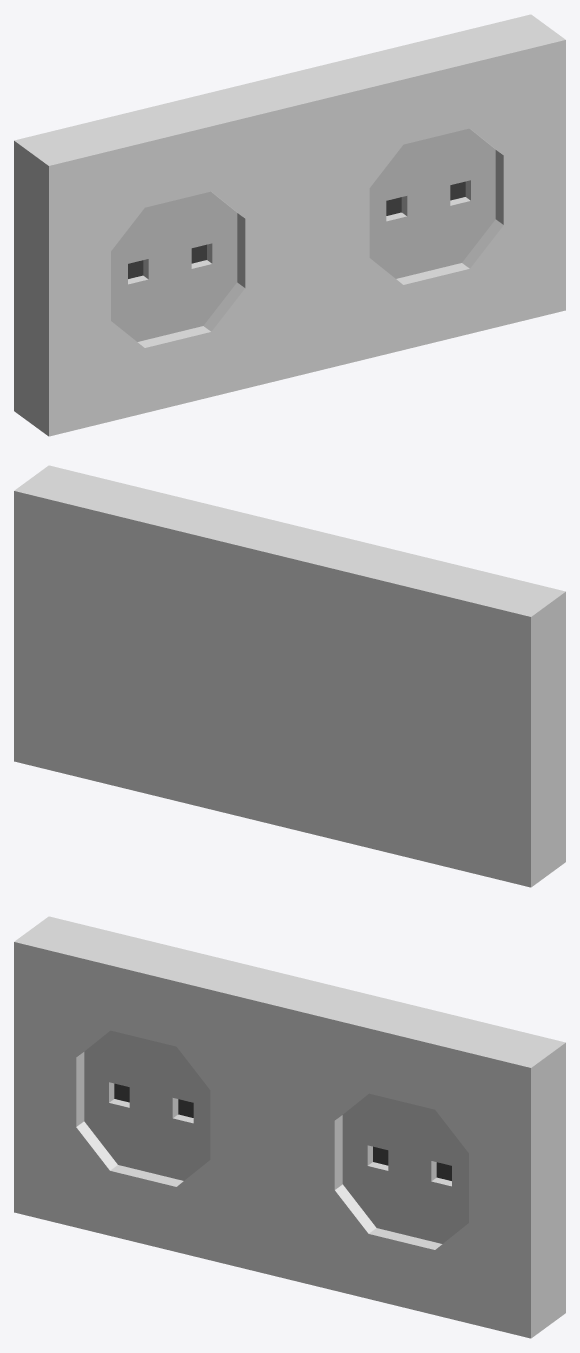
File: Socket2_C1.fbx
The picture shows the model from 3 angles, top to bottom: view 1: azimuth 30°, elevation 25°; view 2: azimuth 150°, elevation 25°; view 3: azimuth 330°, elevation 25°; orthographic projection.
Visible parts, largest first — view 1: Socket2_C1; view 2: Socket2_C1; view 3: Socket2_C1.
Part boxes in pixels (x1,y1,x2,y2): Socket2_C1: (14, 14, 565, 436); Socket2_C1: (14, 465, 565, 887); Socket2_C1: (14, 916, 565, 1338).
Bounding box in the file's own units: 16.89 × 8.44 × 1.97.
